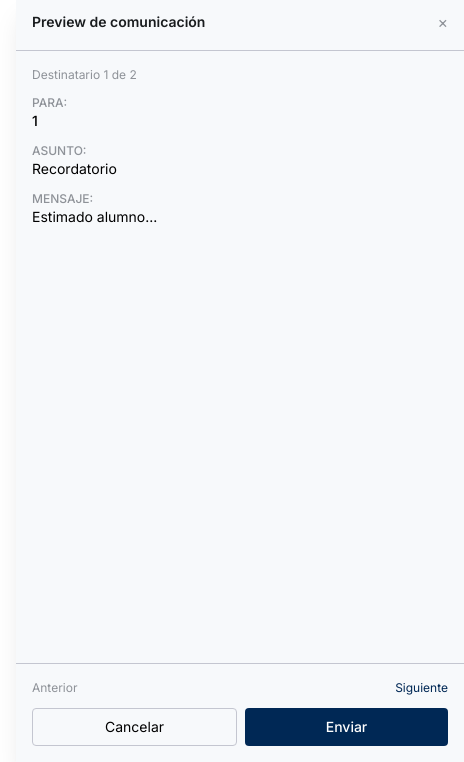
ComunicacionPreview › renders preview and navigates between recipients
The image size is (464, 762).
Expected: the text "Recordatorio" is shown, [32,160,117,177]
Expected: the text "Destinatario 1 de 2" is shown, [32,67,137,82]
Click the button "Siguiente" at [422, 688], box [395,680,448,696]
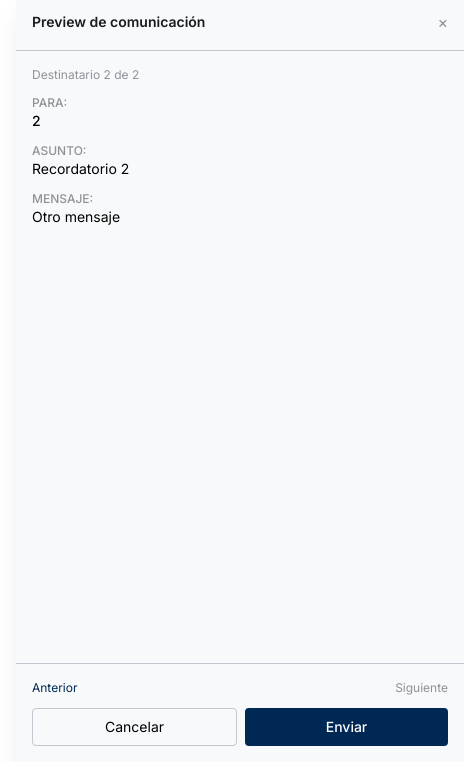
Now the text "Destinatario 2 de 2" is shown, box [32,67,139,82]
Click the button "Anterior" at [55, 688], box [32,680,77,696]
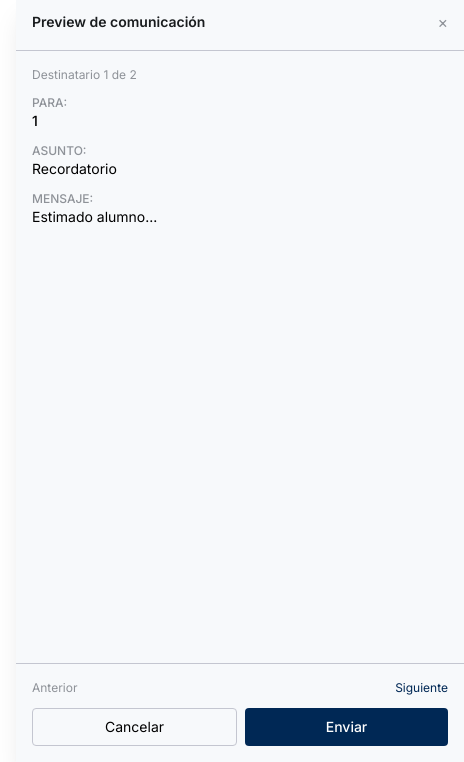
Now the text "Destinatario 1 de 2" is shown, box [32,67,137,82]
